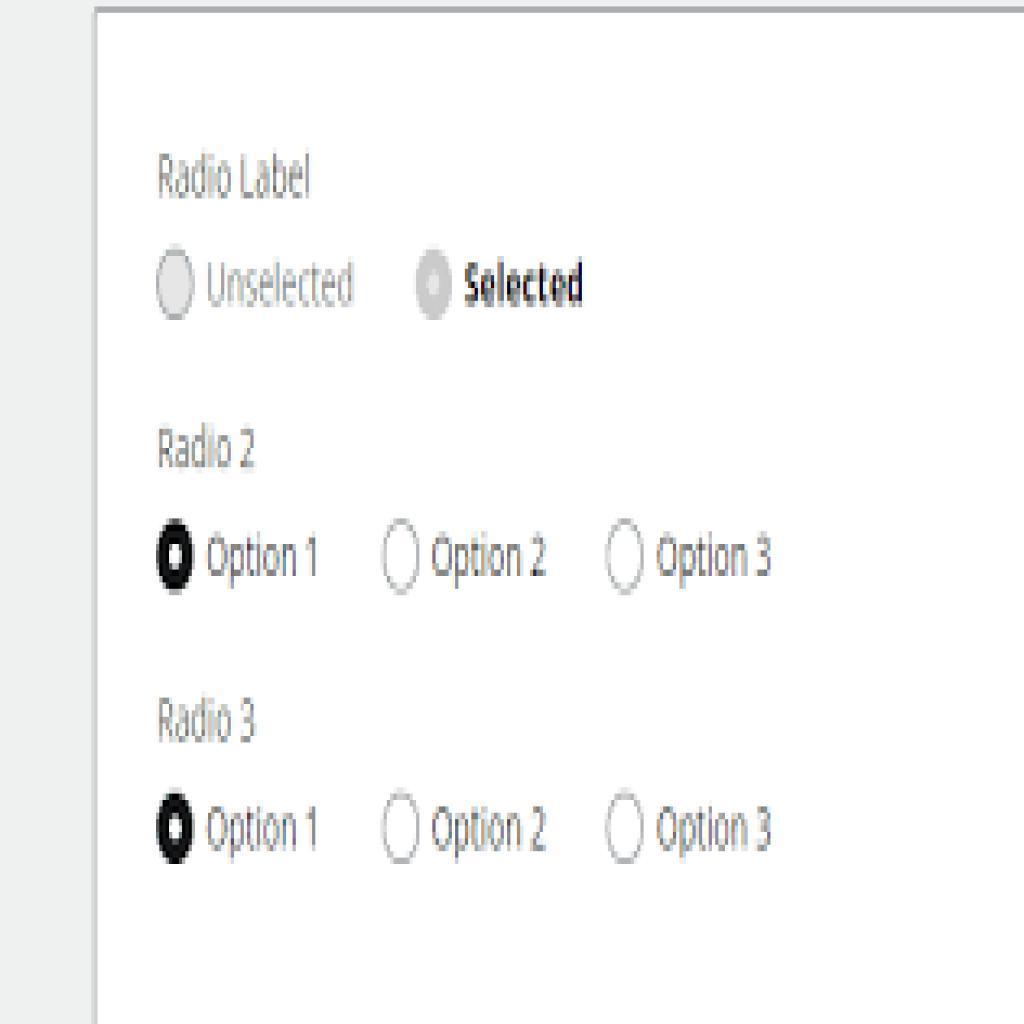radio: (377, 777, 427, 880), (150, 239, 202, 329), (605, 773, 646, 880), (413, 239, 456, 331), (156, 508, 199, 600), (153, 790, 199, 876), (606, 514, 651, 598), (384, 517, 423, 604)
